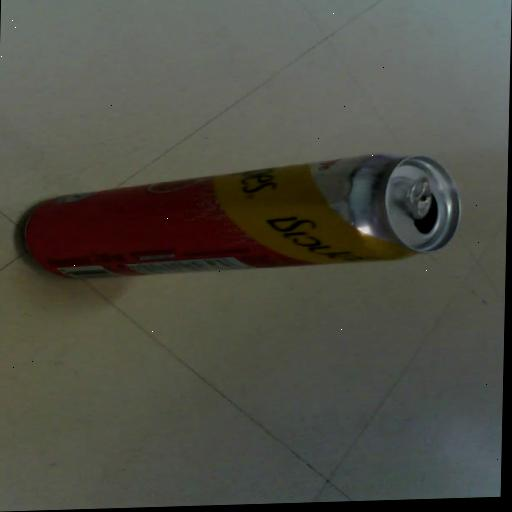canned: (5, 145, 486, 291)
